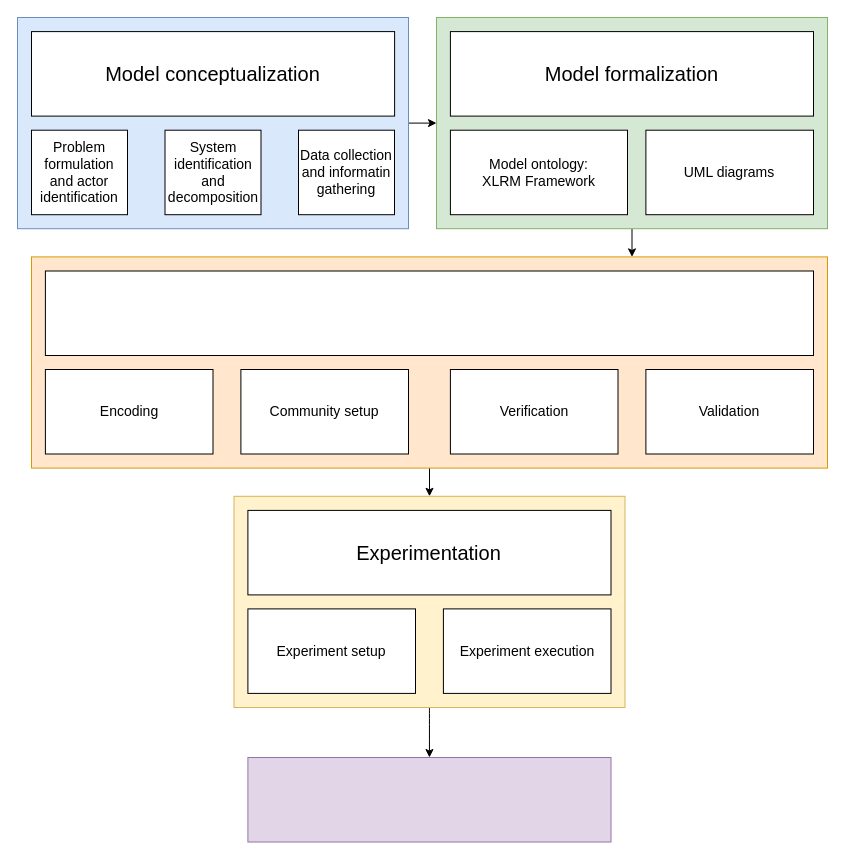
The diagram is 845 pixels wide and 860 high, and some of its shapes have lost their labels. The centre of each missing label's shape, as x and y in pixels:
Model implementation: point 429,313
Result analysis: point 429,799
